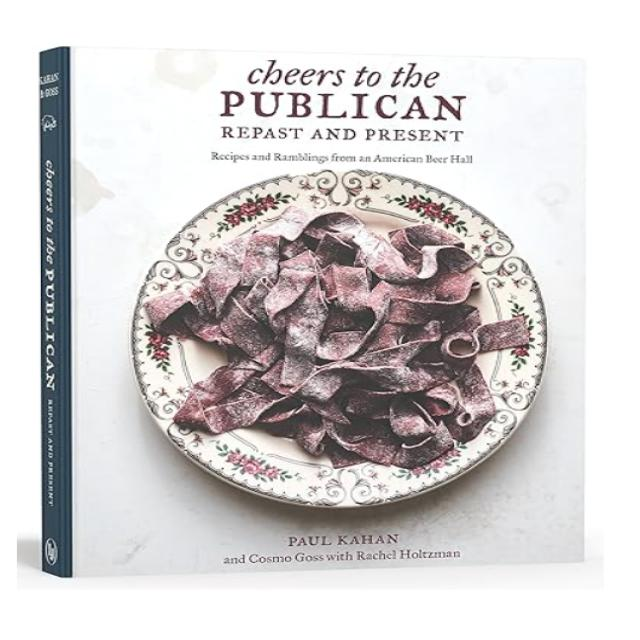titles-or-authors: (203, 51, 481, 149), (280, 526, 408, 551)
